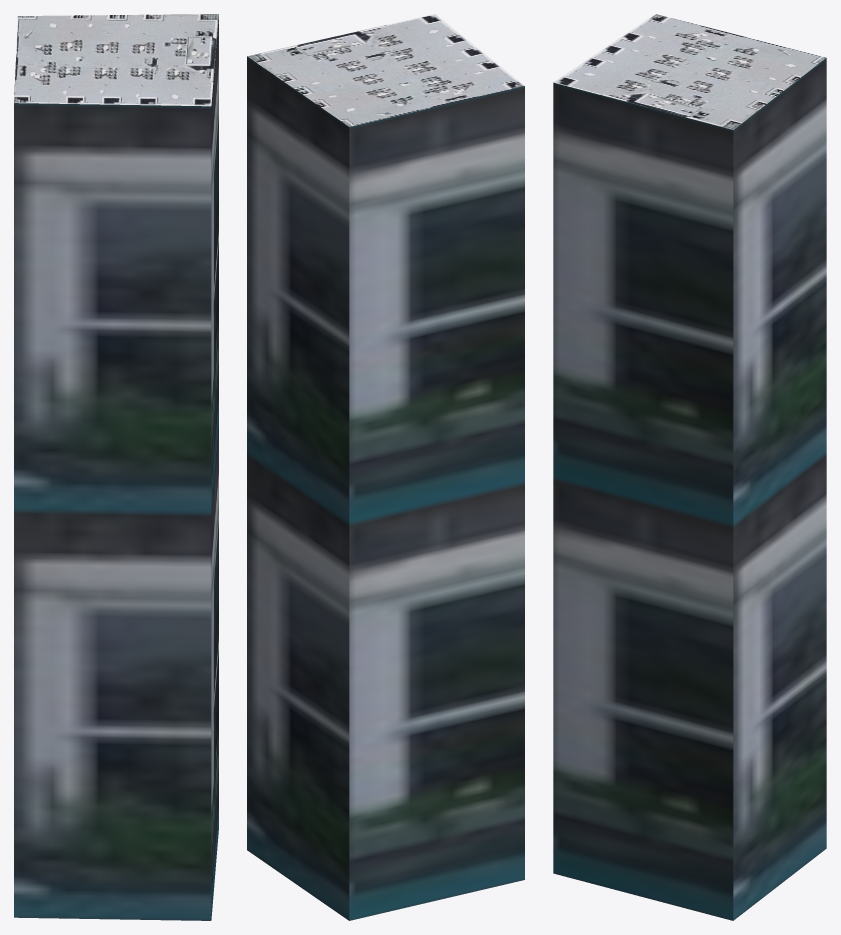
File: ResTex__3756.fbx
3 views of the same model, side by side, from view 1: azimuth 30°, elevation 25°; view 2: azimuth 150°, elevation 25°; view 3: azimuth 270°, elevation 25° (orthographic). The views are drawn at different scales.
Parts seen in each view (by area): view 1: CityEngineMaterial_11_m, CityEngineMaterial_4_m; view 2: CityEngineMaterial_11_m, CityEngineMaterial_4_m; view 3: CityEngineMaterial_11_m, CityEngineMaterial_4_m.
Boxes of the visible parts, x1,y1,x2,y2 form: CityEngineMaterial_11_m: (14, 16, 218, 920); CityEngineMaterial_4_m: (14, 14, 218, 106); CityEngineMaterial_11_m: (247, 56, 524, 920); CityEngineMaterial_4_m: (247, 14, 524, 126); CityEngineMaterial_11_m: (553, 58, 826, 920); CityEngineMaterial_4_m: (553, 14, 826, 129).
Size of the model in its own units: 1.89 by 6 by 1.88.
2 materials, 2 textured.
